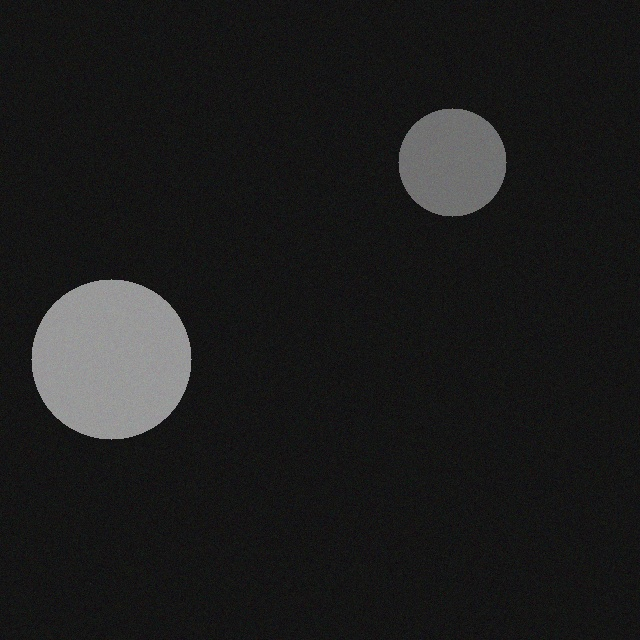circle: (36, 270, 196, 430), (403, 99, 511, 207)
